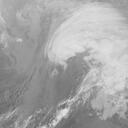cyclone: (48, 24, 104, 96)
